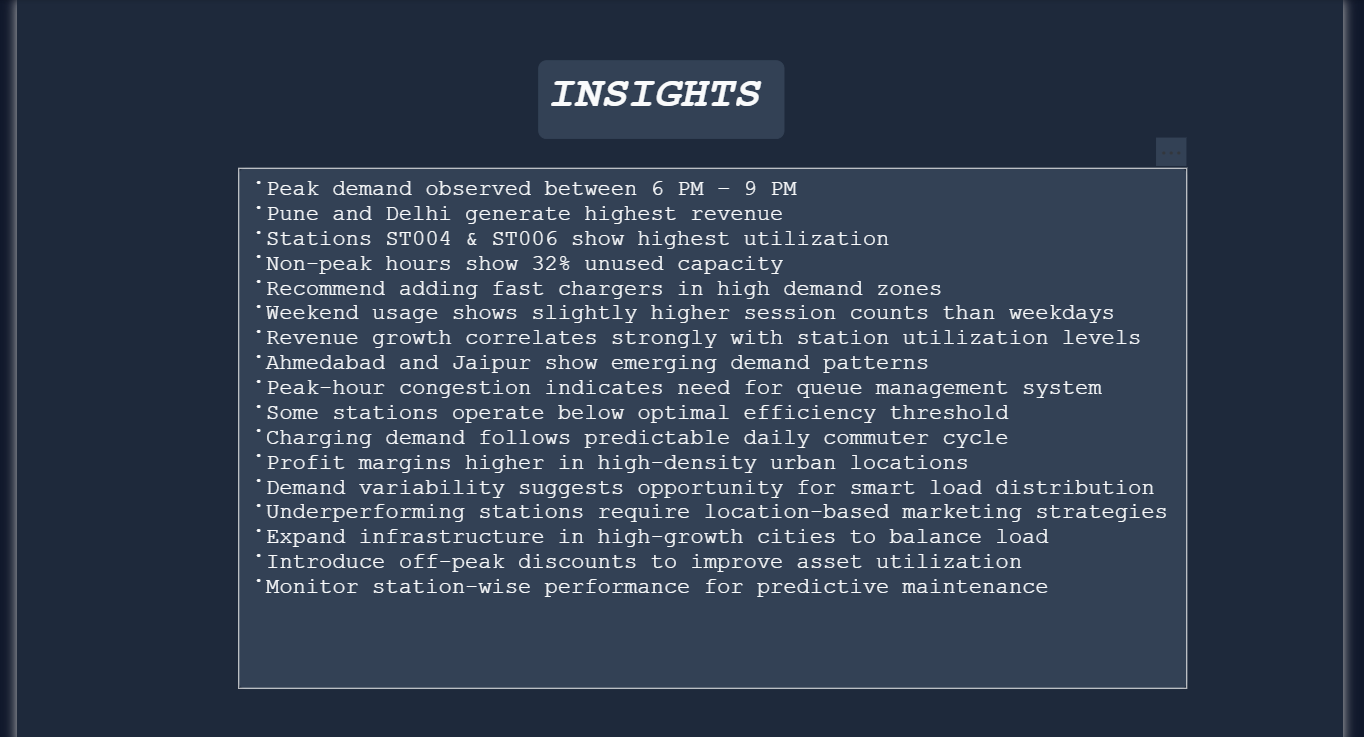

What the dashboard file says about the page in this screenshot:
{"tool":"powerbi","page":{"name":"Insights","canvas":[1280,720],"ordinal":1},"visuals":[{"type":"textbox","box":[213.5,162.9,915.7,503.1],"z":0},{"type":"textbox","box":[503.1,59.1,237.7,76],"z":1}]}

Visuals, with their boxes on the page's 1280x720 design canvas (x1, y1, x2, y2). These are canvas units, not pixel positions in the 1364x737 screenshot, which may show the page scaled, cropped or inside an application window:
textbox: region(214, 163, 1129, 666)
textbox: region(503, 59, 741, 135)
